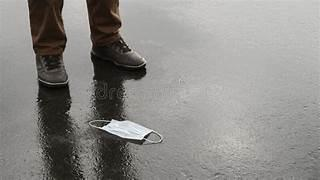Mask: (89, 119, 162, 142)
